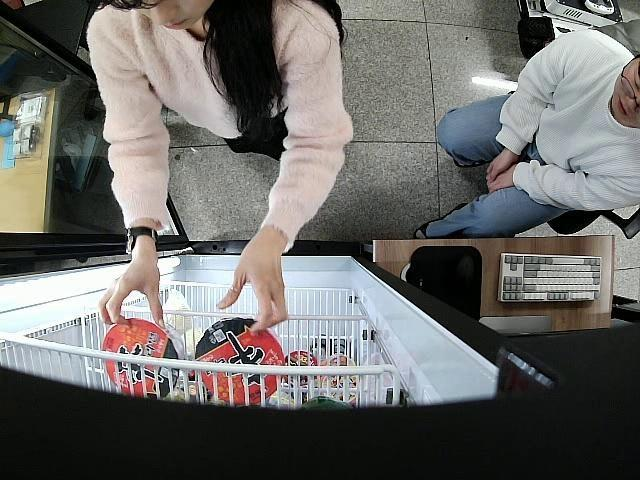01_ShinRamen_L: (194, 316, 286, 404), (99, 319, 180, 398)
